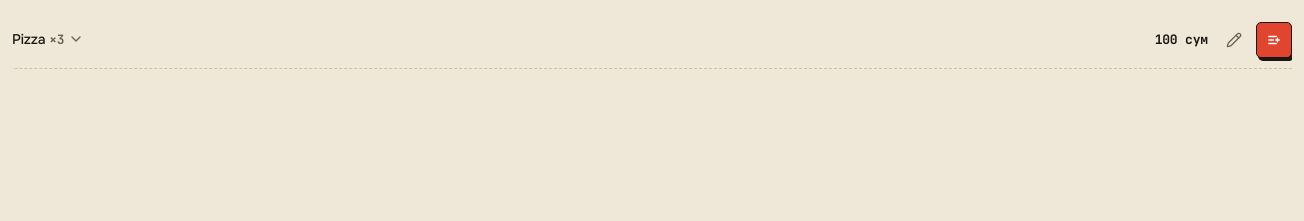
Test case: receipt positions › renames a line without moving a total its rounded unit price cannot express
This screenshot has width=1304, height=221.
Later steps or results of the test are not shown.
Click the button named "Edit: Pizza ×3": (1234, 40) top-left (1216, 22), bottom-right (1252, 58)
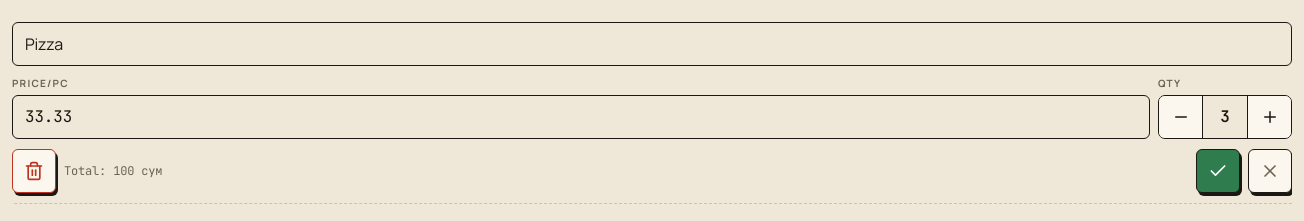
expect the text "Total: 100 сум" is shown: met, box top-left (64, 163), bottom-right (162, 179)
